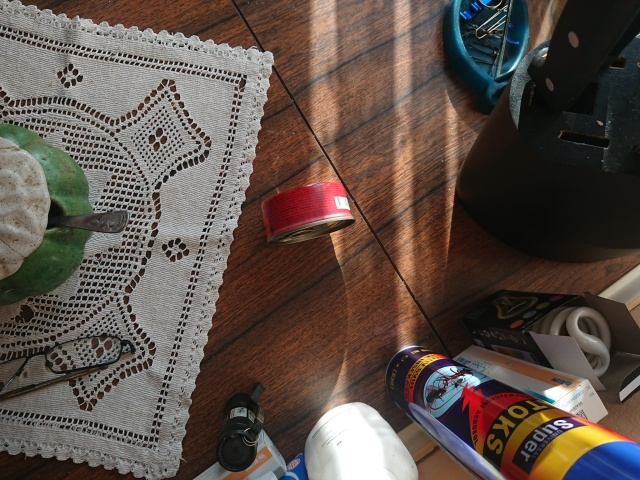Gavrilovic Pork Liver Pate 100g: (258, 179, 359, 248)
